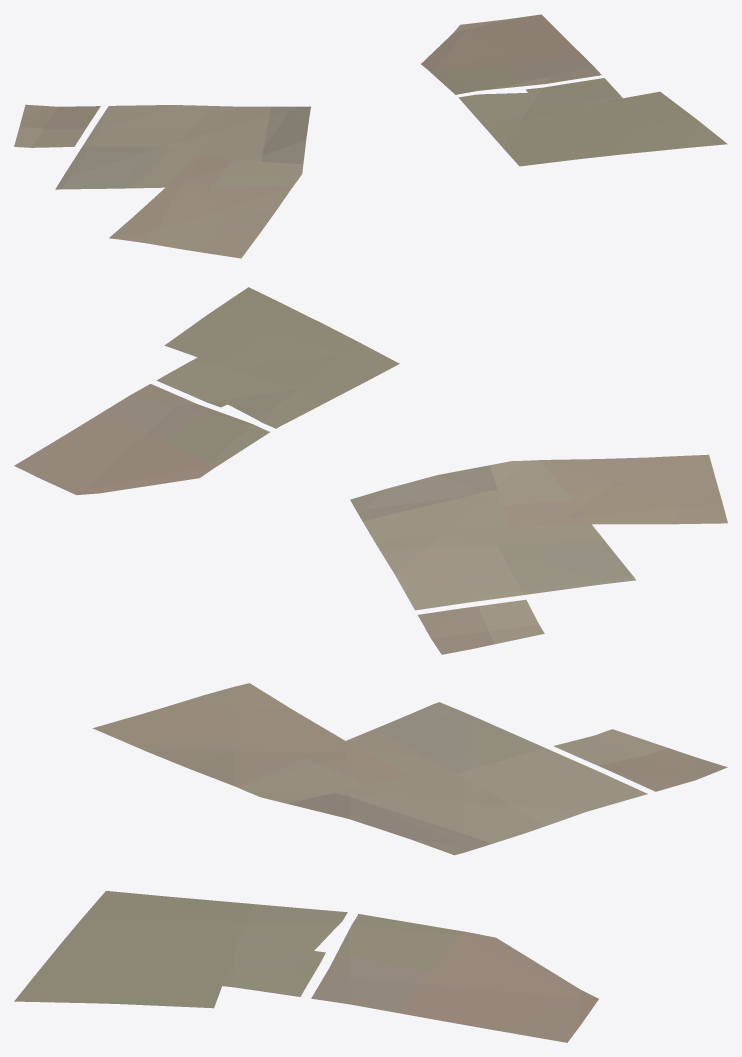
Rendered from farm_4_-3_soil.glb.
The picture shows the model from 3 angles, top to bottom: view 1: azimuth 30°, elevation 25°; view 2: azimuth 150°, elevation 25°; view 3: azimuth 270°, elevation 25°; orthographic projection. The views are drawn at different scales.
Parts seen in each view (by area): view 1: geometry_0; view 2: geometry_0; view 3: geometry_0.
Boxes of the visible parts, x1,y1,x2,y2 form: geometry_0: (14,14,727,258); geometry_0: (14,287,727,654); geometry_0: (14,683,727,1042).
Bounding box in the file's own units: 601 × 46.01 × 495.
